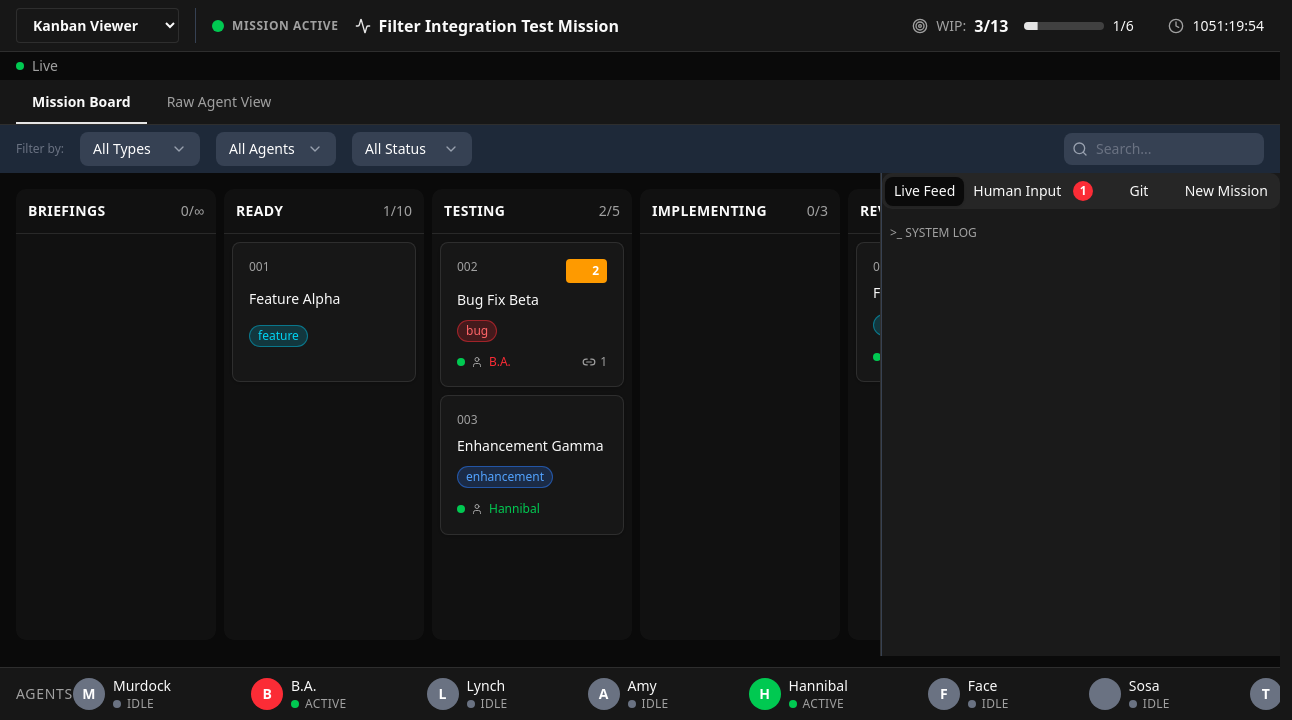
Test: Page Filter Integration (Item 009) › Filter changes update display without page reload › should handle search query filtering
Expected: the text "Feature Alpha" is shown, [249,288,340,308]
# Type in search input
Type "Beta" into the field with test id "search-input". click: (1164, 149)
box: [1064,133,1264,165]
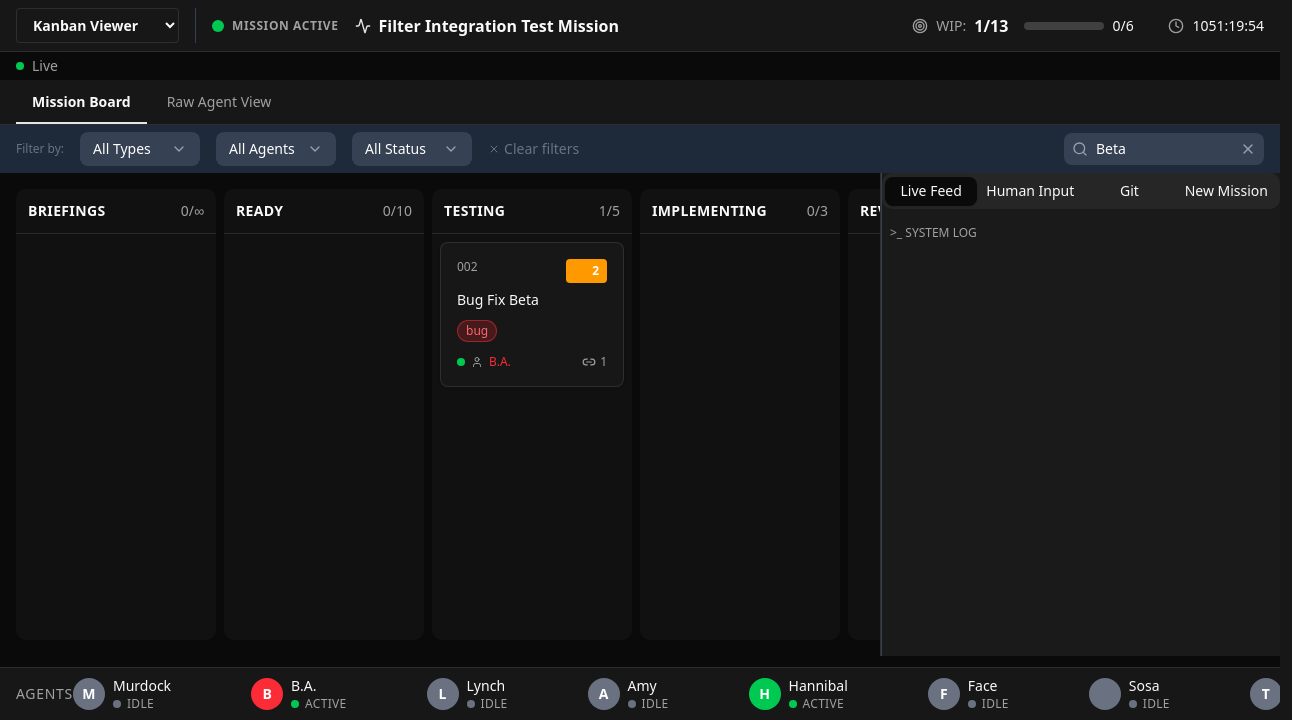
Expected: the text "Bug Fix Beta" is shown, [457,290,539,309]
Result: the text "Feature Alpha" is gone
